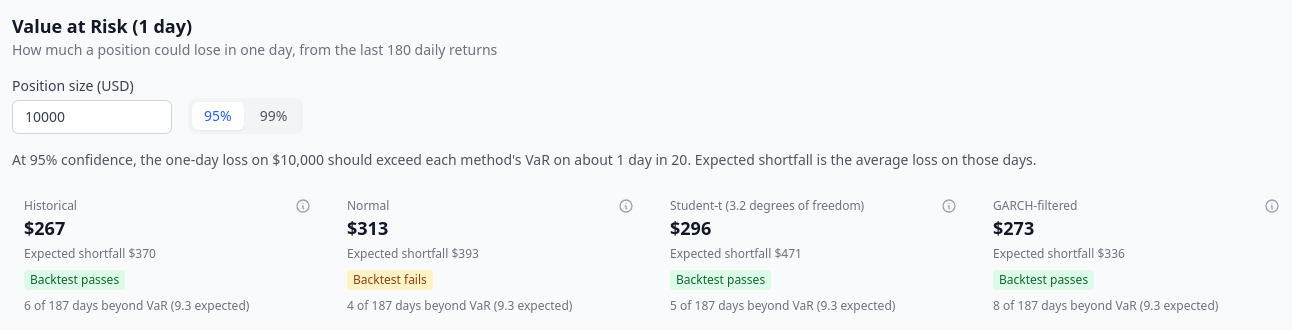
Test case: ValueAtRiskPanel › rescales to the position size and remembers it
Replace the text in the number field labelled "Position size (USD)" with "2500": (92, 117) [12,100,172,134]
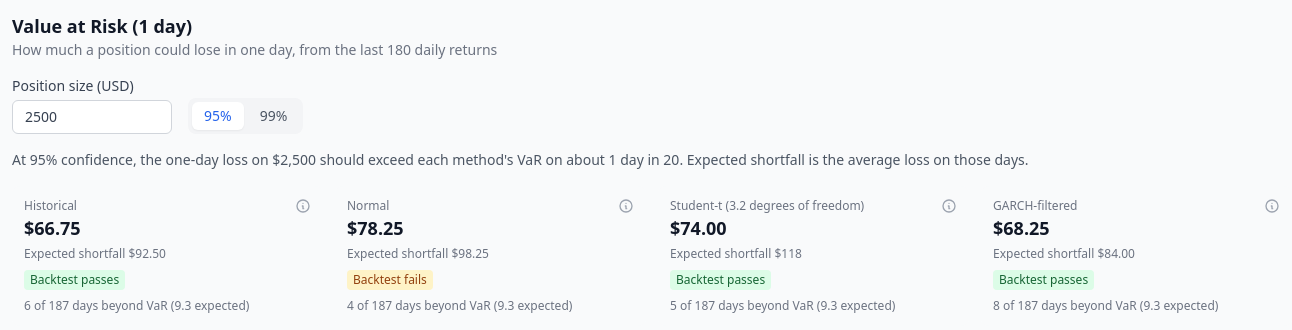
Result: the text "$66.75" is shown at [24,216,81,240]
